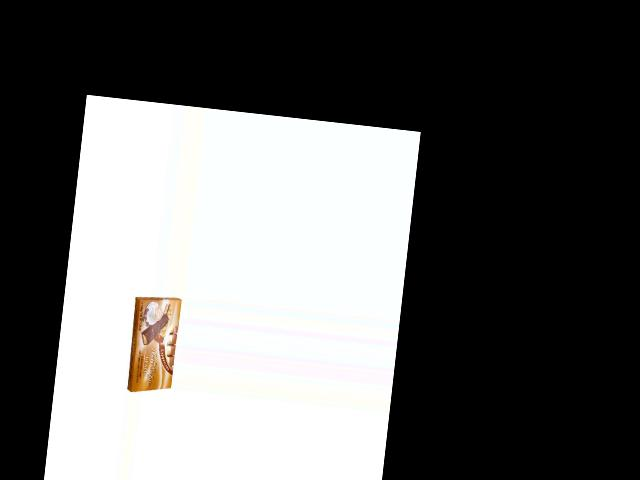chocolate: (124, 292, 182, 398)
